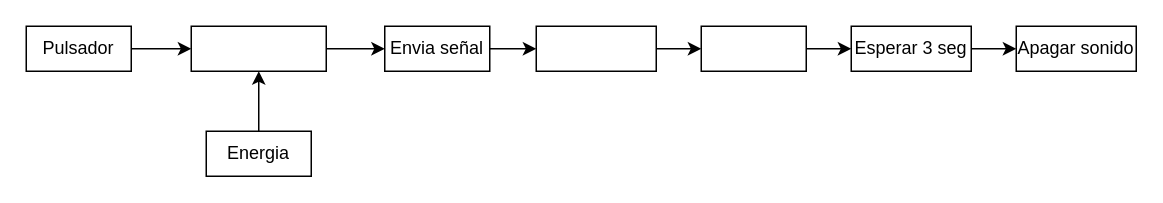
Image size: 1163x203. Some labels were removed from this diagram. Each missing label, with the box of its shape:
Procesador: (190, 25, 326, 71)
Recibe señal: (535, 25, 656, 71)
Sonido: (700, 25, 806, 71)
